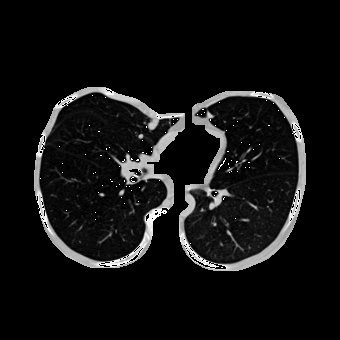PN: (138, 133, 144, 139)
